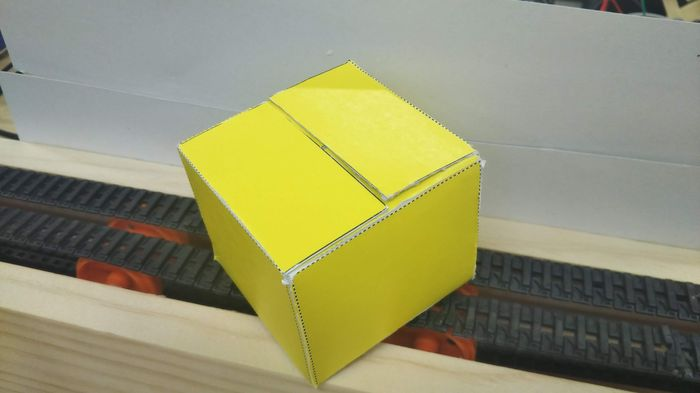box4: (173, 57, 488, 388)
